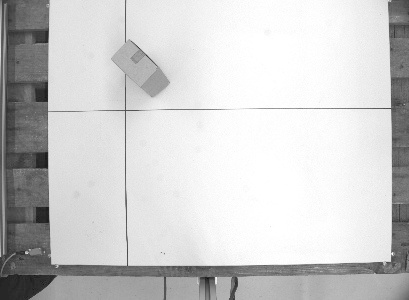b6: (108, 37, 172, 98)
